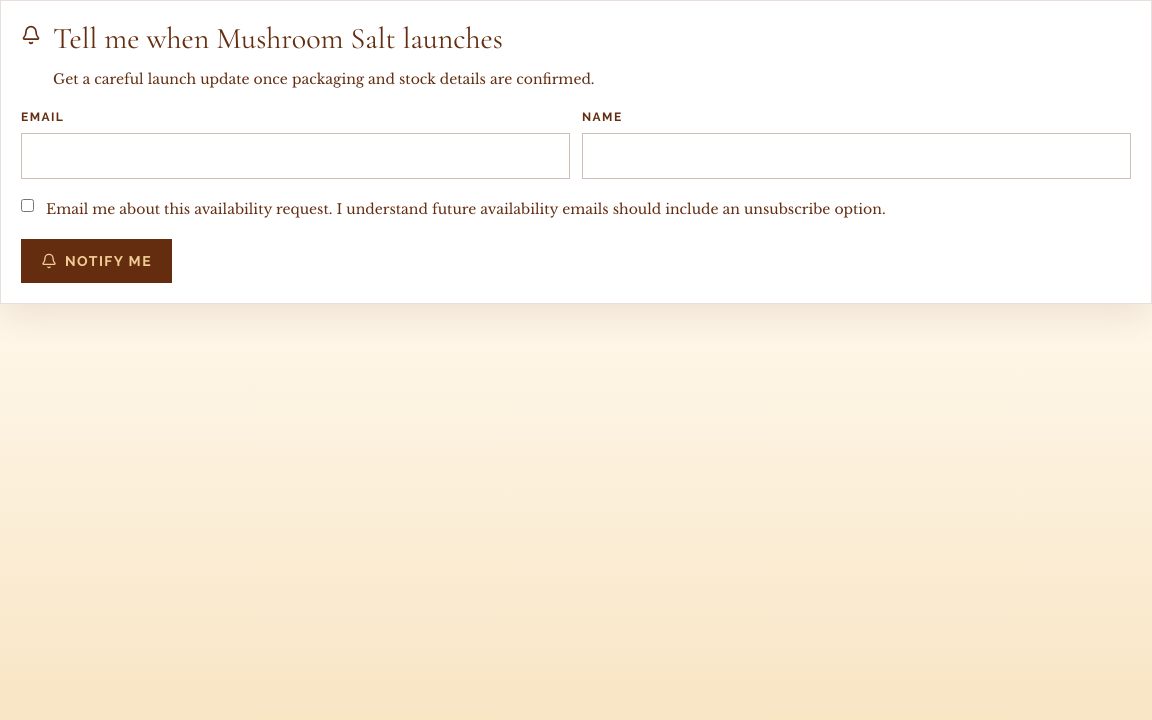
Test case: NotificationSignupForm › posts a consent-based availability notification signup
Step 1. Type "customer@example.com" into the field labelled "Email" → (296, 156), box [21,133,570,179]
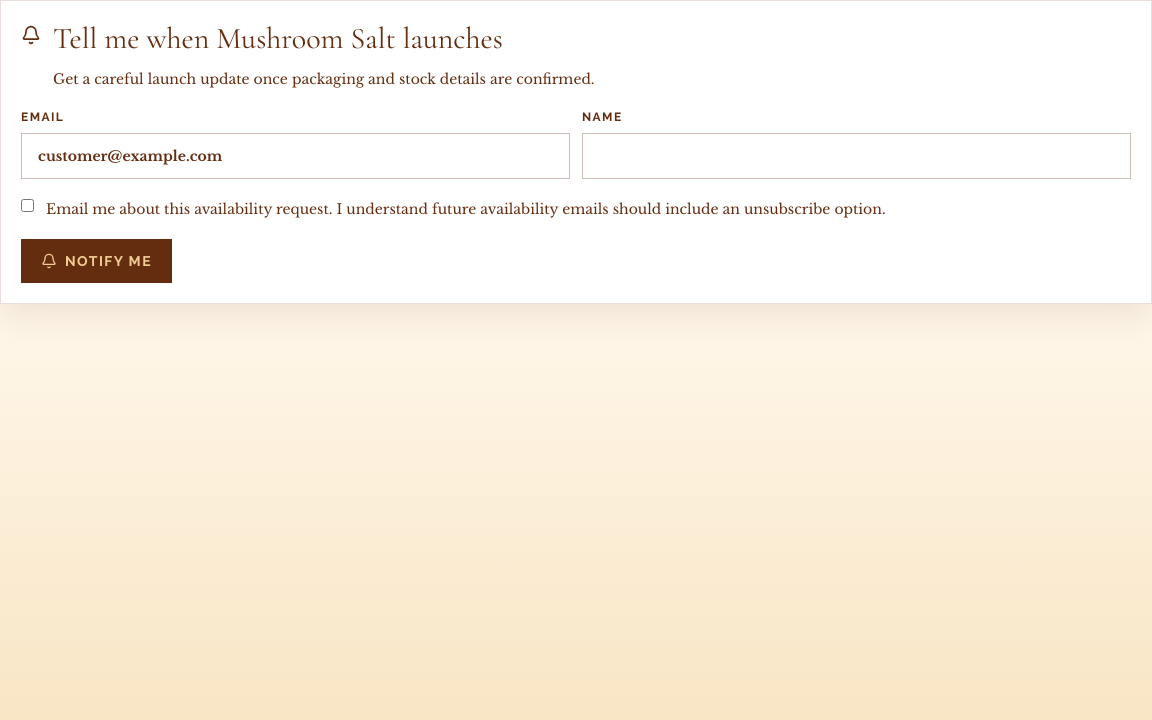
Step 2. Click the checkbox labelled "Email me about this availability request" → (28, 206), box [21,199,34,212]
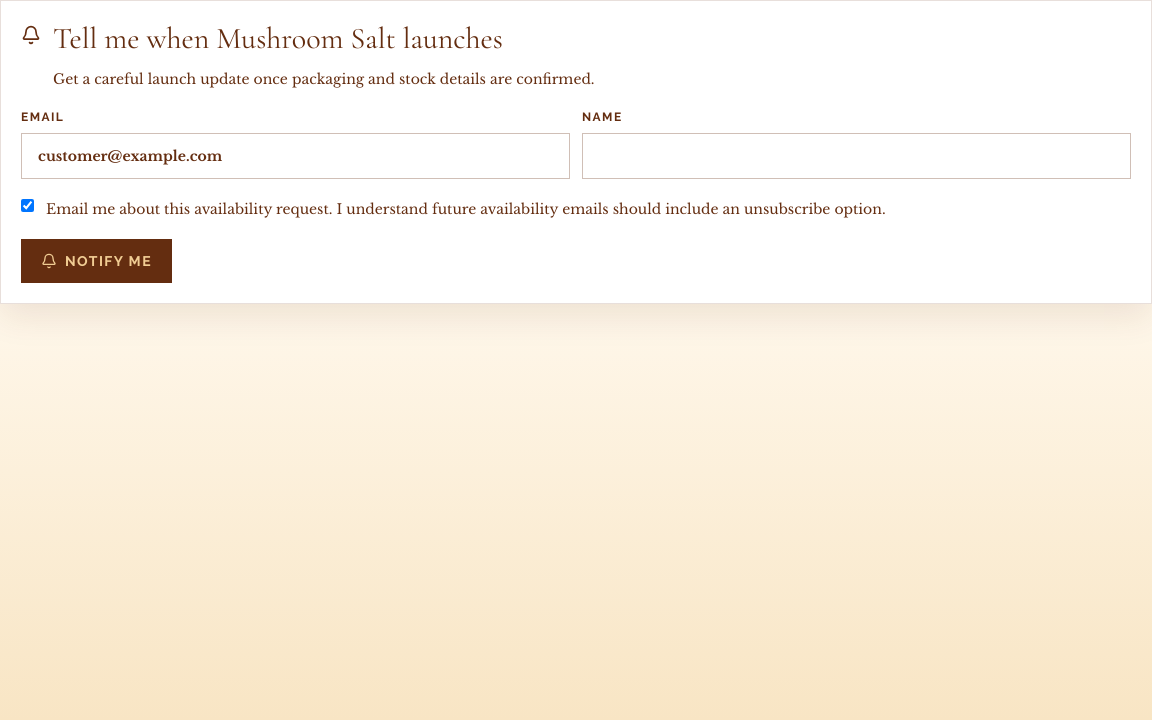
Step 3. Click the button "Notify me" → (96, 261), box [21,239,172,283]
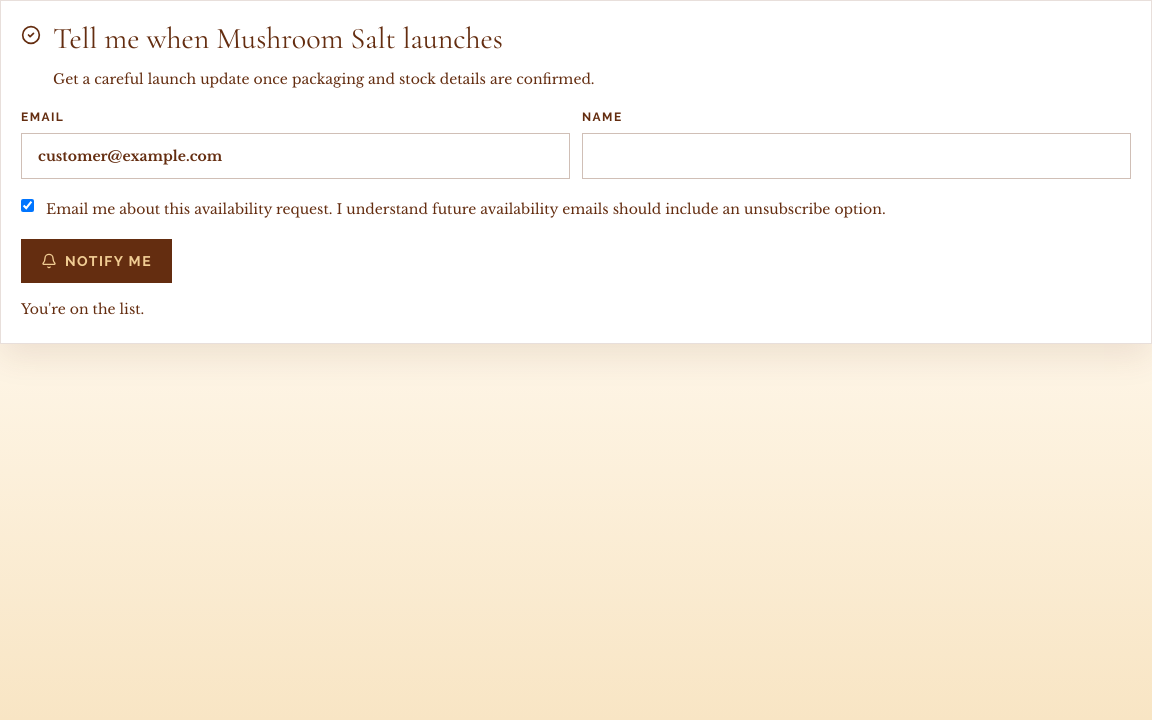
Expected: the text "You're on the list." is shown, [21,300,144,318]
